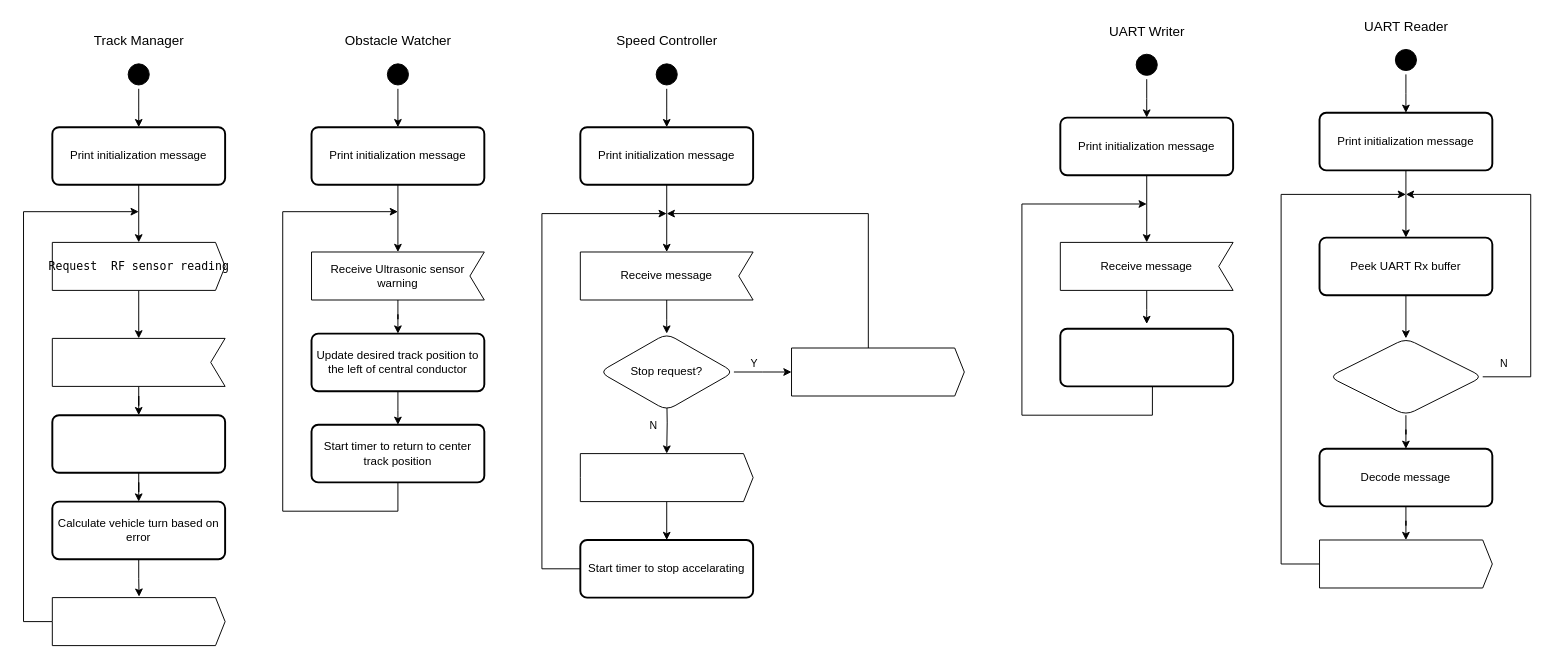
This 1555x662 diagram has some shape labels left out. Each missing label, with the centre of its shape:
Calculate error based on desired position: [138,443]
Has complete reading?: [1405,376]
Receive RF sensor reading: [138,361]
Request vehicle accelaration: [666,477]
Request vehicle stop: [877,371]
Request vehicle turn: [138,621]
Send message to UART: [1146,357]
Send to appropriate queue: [1405,563]
